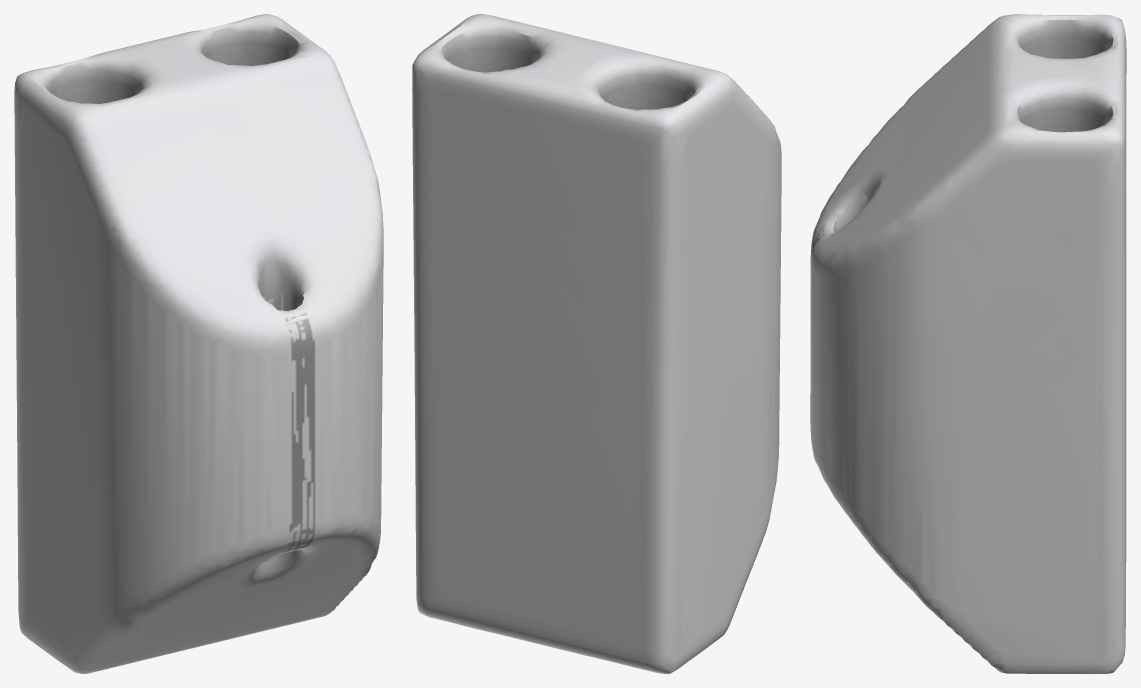
File: right_finger2_middle.glb
The picture shows the model from 3 angles, left to right: view 1: azimuth 30°, elevation 25°; view 2: azimuth 150°, elevation 25°; view 3: azimuth 270°, elevation 25°; orthographic projection. The views are drawn at different scales.
Parts seen in each view (by area): view 1: right_finger2_middle; view 2: right_finger2_middle; view 3: right_finger2_middle.
Boxes of the visible parts, x1,y1,x2,y2 form: right_finger2_middle: [14, 14, 383, 673]; right_finger2_middle: [412, 14, 781, 673]; right_finger2_middle: [810, 14, 1126, 673].
Size of the model in its own units: 0.0118 by 0.0238 by 0.0125.
Materials: 1 (1 with a texture image).
